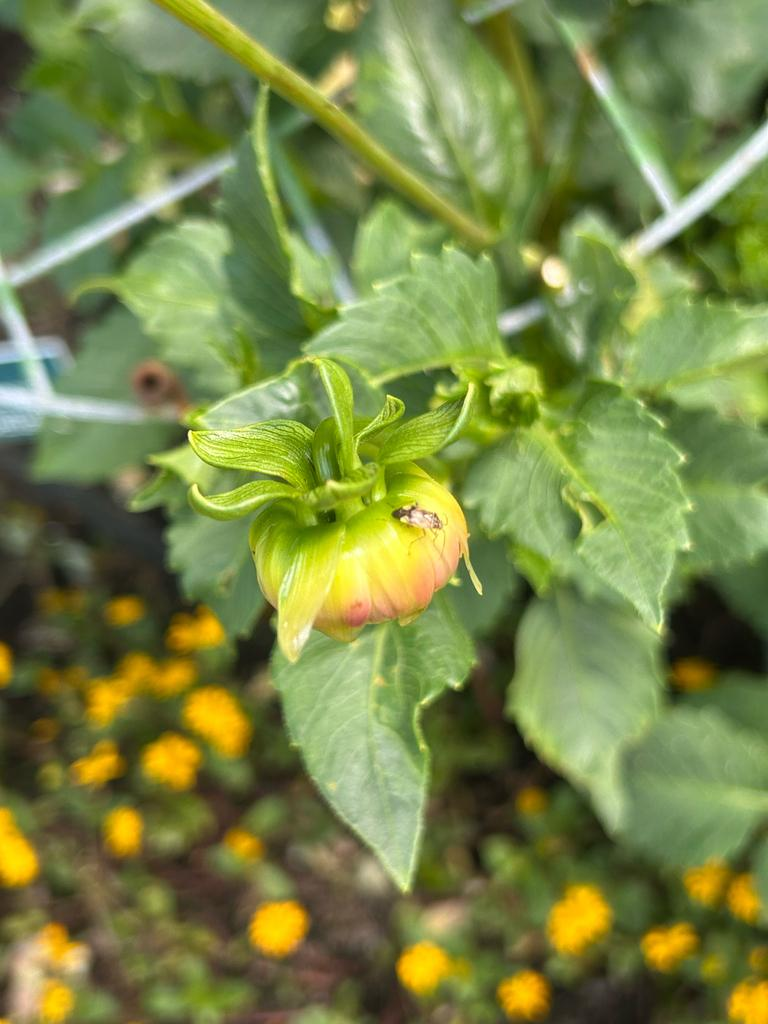plant_bugs: (380, 489, 466, 561)
